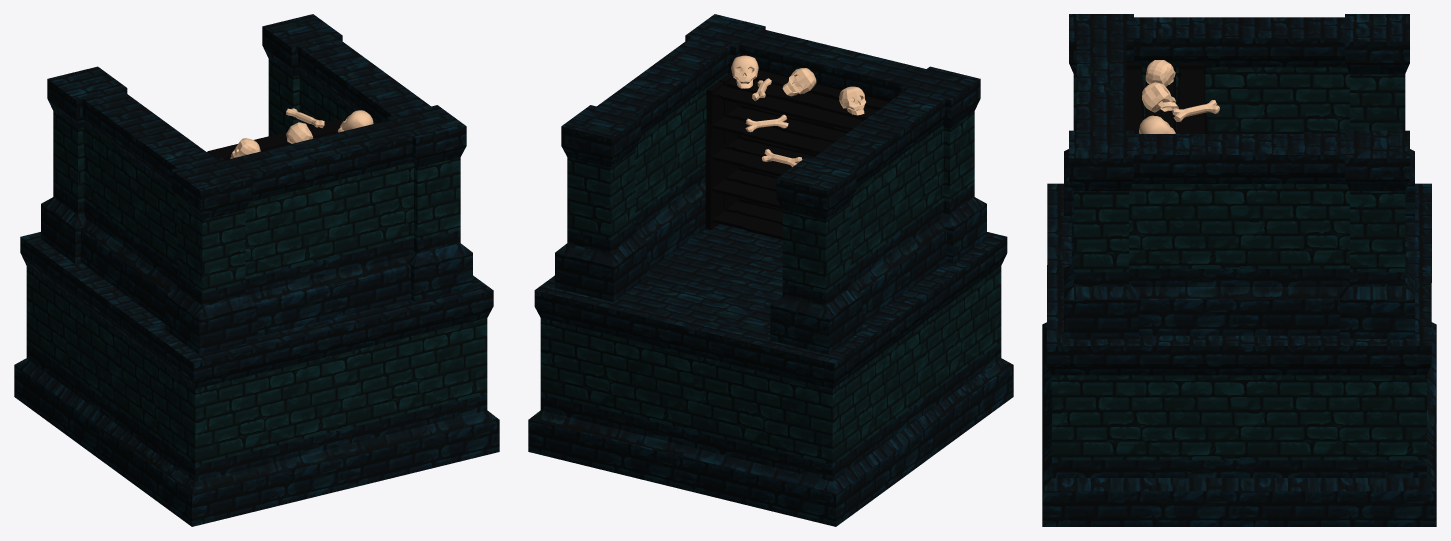
File: tile-deadend-book.glb
3 renders of one model, left to right at view 1: azimuth 30°, elevation 25°; view 2: azimuth 150°, elevation 25°; view 3: azimuth 270°, elevation 25°, orthographic. The views are drawn at different scales.
Parts seen in each view (by area): view 1: mergedBlocks(Clone); view 2: mergedBlocks(Clone); view 3: mergedBlocks(Clone).
Part boxes in pixels (x1,y1,x2,y2): mergedBlocks(Clone): (14, 14, 499, 526); mergedBlocks(Clone): (528, 14, 1013, 526); mergedBlocks(Clone): (1042, 14, 1436, 526).
Size of the model in its own units: 2 by 2.03 by 2.
11 materials, 3 textured.
